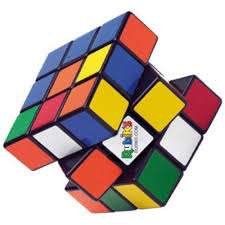cube: (2, 11, 222, 214)
